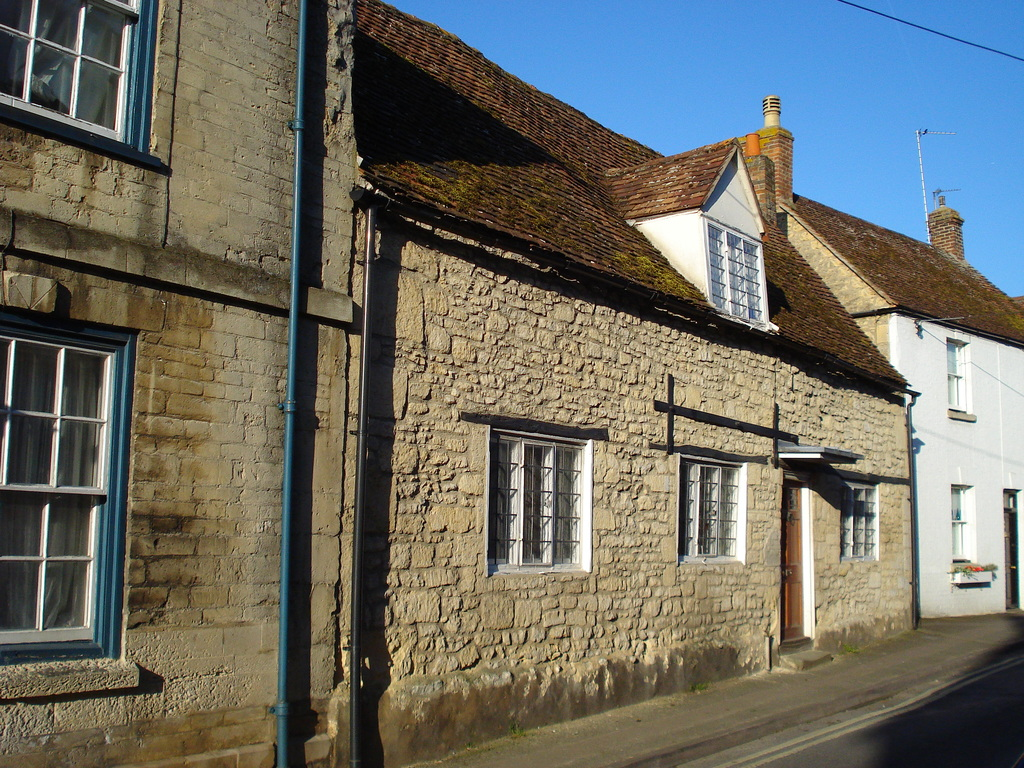Window: (0, 314, 132, 650), (0, 0, 152, 146), (490, 406, 606, 580), (671, 444, 749, 563), (703, 224, 768, 324), (836, 476, 891, 563), (948, 478, 977, 577), (943, 332, 972, 415)
